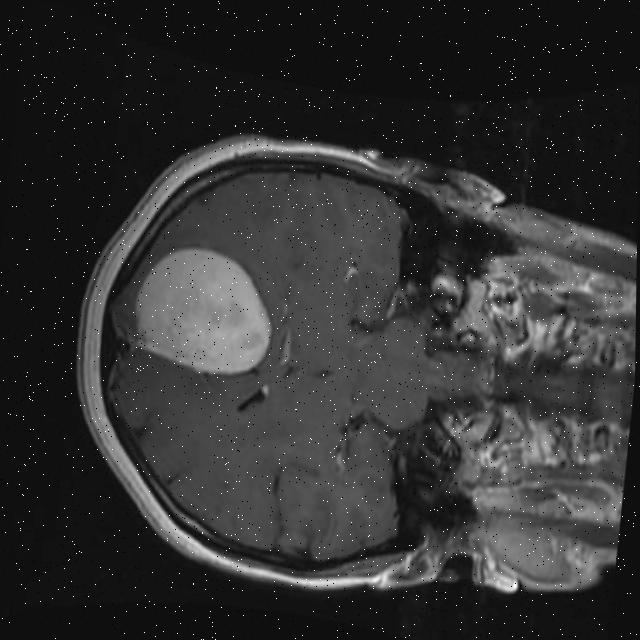Meningioma: (125, 233, 284, 384)
